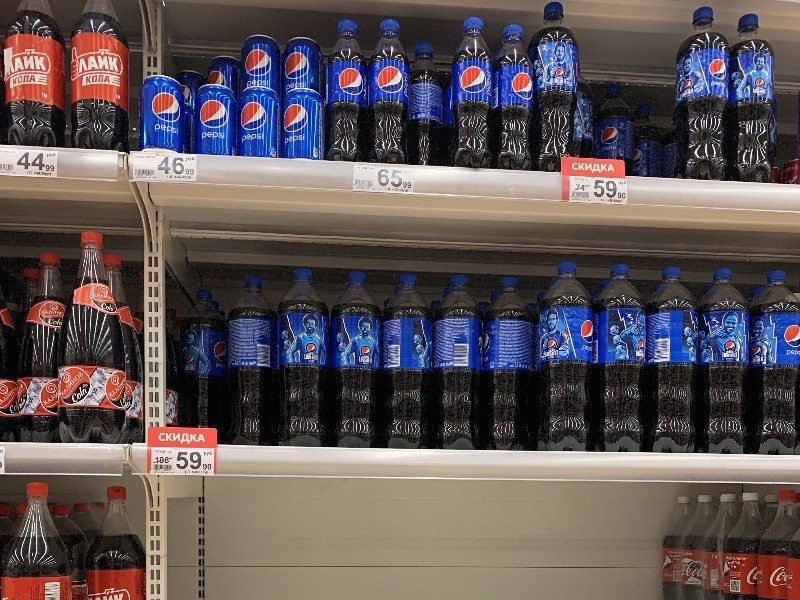lemonade: (52, 226, 136, 451), (534, 258, 601, 460), (321, 266, 386, 456), (671, 6, 739, 184), (694, 267, 755, 460), (644, 264, 703, 461), (273, 263, 332, 456), (595, 262, 652, 460), (724, 9, 783, 189), (221, 276, 280, 455), (429, 268, 484, 456), (484, 269, 537, 459), (379, 269, 432, 455), (750, 264, 797, 463), (528, 1, 580, 179), (445, 13, 500, 172), (364, 16, 413, 169), (491, 22, 539, 177), (324, 15, 371, 166)
